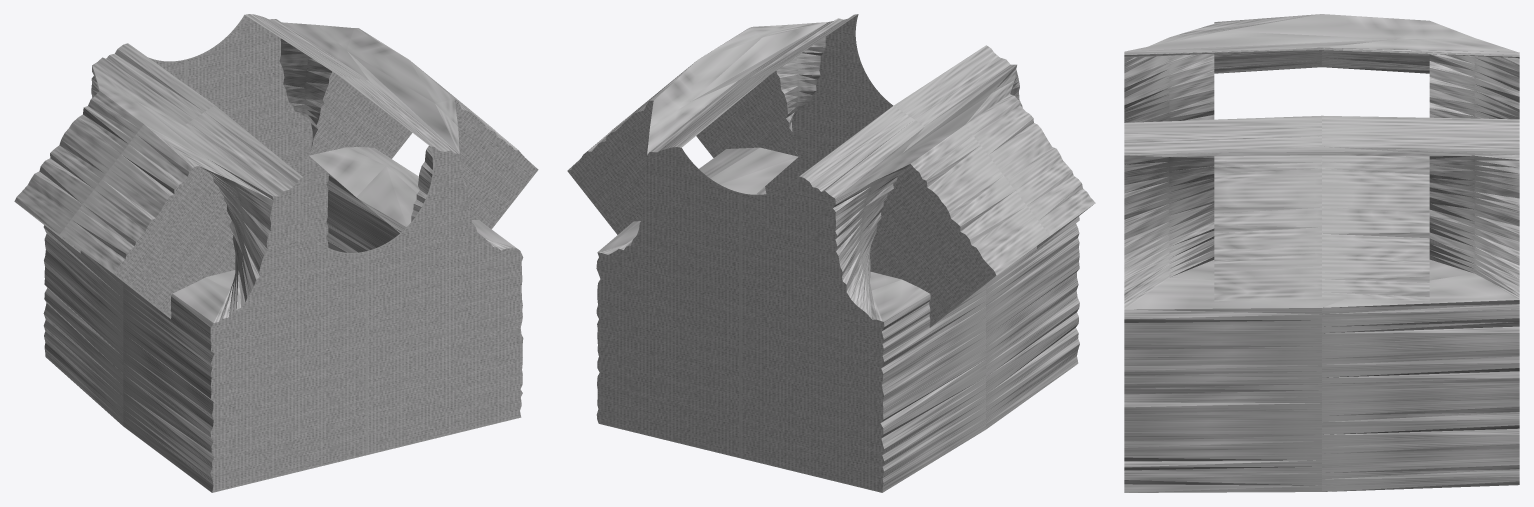
File: bust_plus_3cm_boxmesh.obj
3 views of the same model, side by side, from view 1: azimuth 30°, elevation 25°; view 2: azimuth 150°, elevation 25°; view 3: azimuth 270°, elevation 25° (orthographic). The views are drawn at different scales.
Bounding box in the file's own units: 76.3 × 50.27 × 55.
Materials: 1 (1 with a texture image).
